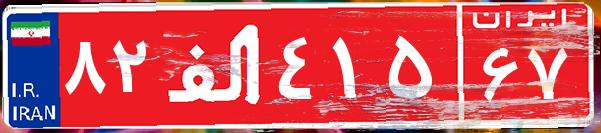1: (330, 28, 385, 110)
2: (110, 28, 158, 105)
4: (273, 28, 330, 110)
5: (385, 28, 445, 110)
6: (475, 38, 525, 113)
7: (525, 38, 570, 115)
8: (57, 26, 110, 107)
الف: (158, 15, 273, 115)
